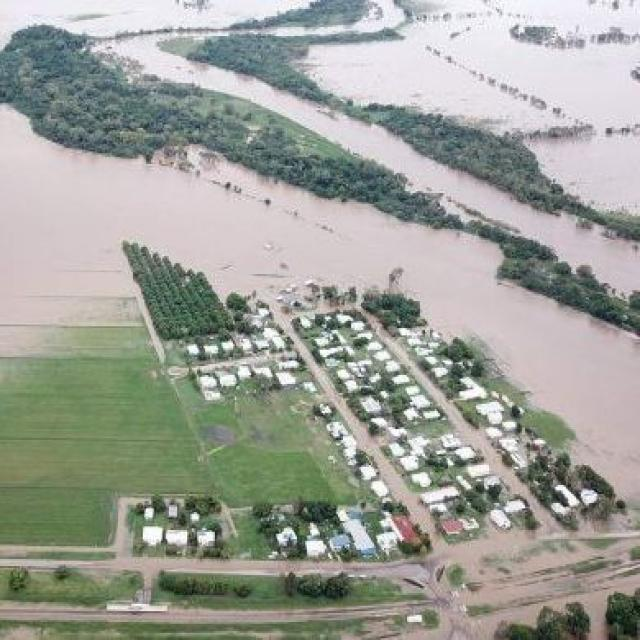flooded_areas: (0, 2, 638, 294), (281, 245, 620, 572)
